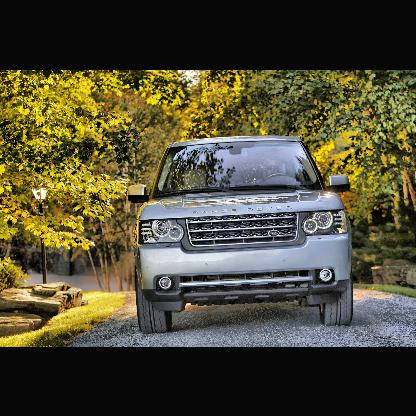Land Rover Range Rover SUV 2012: (133, 133, 359, 318)
